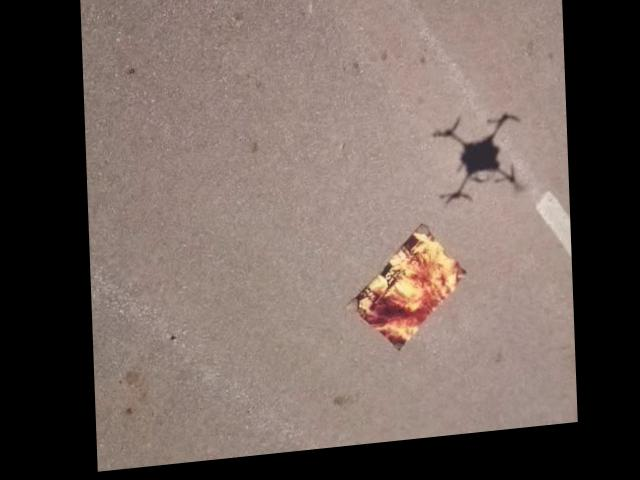fire-poster: (344, 226, 469, 364)
